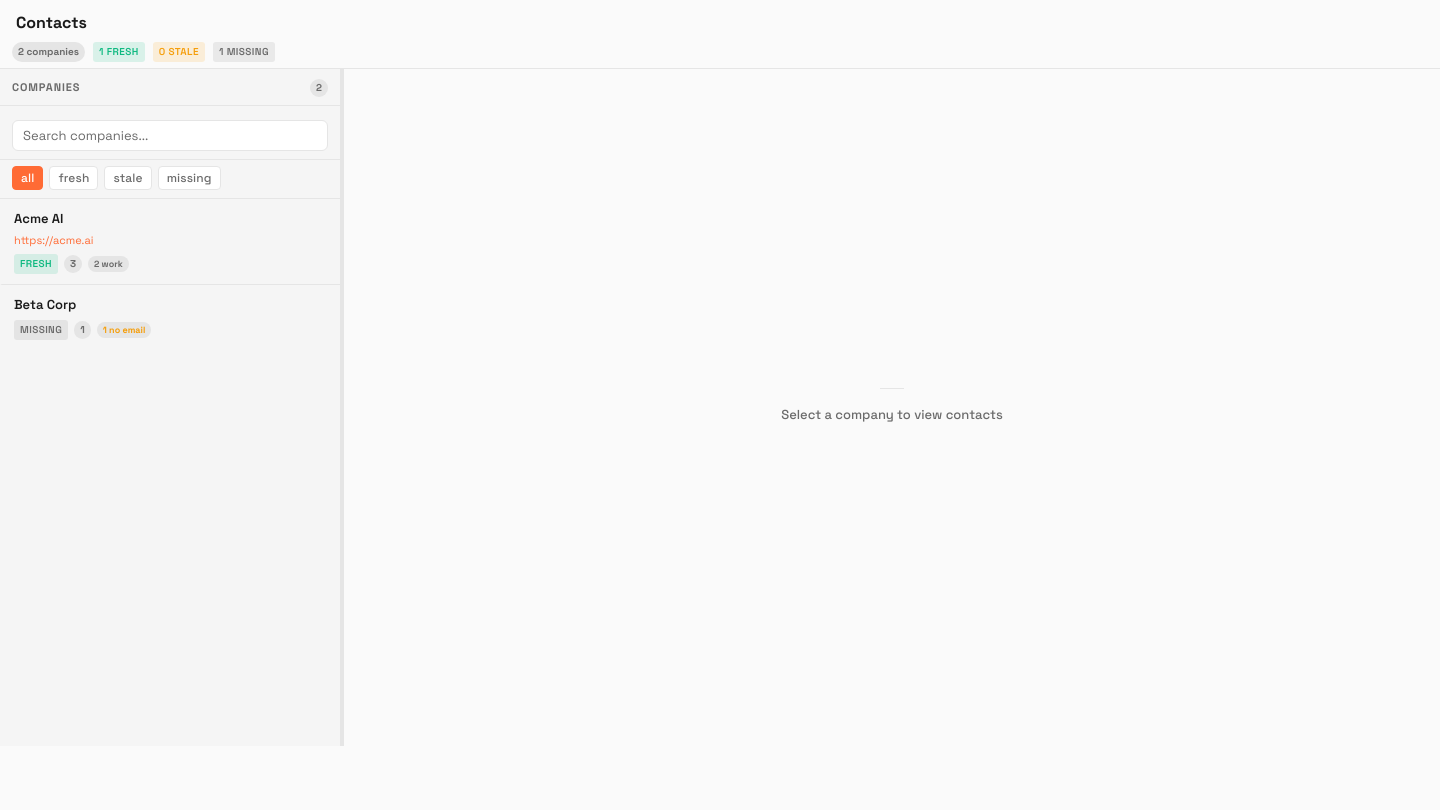
ContactsWorkspacePage › shows sendability fallback in detail when work email bounced but generic usable
What coordinates should you click on to do the following:
click the text "Acme AI"
I would click on:
 (39, 218)
Its box is x1=14 y1=210 x2=63 y2=227.
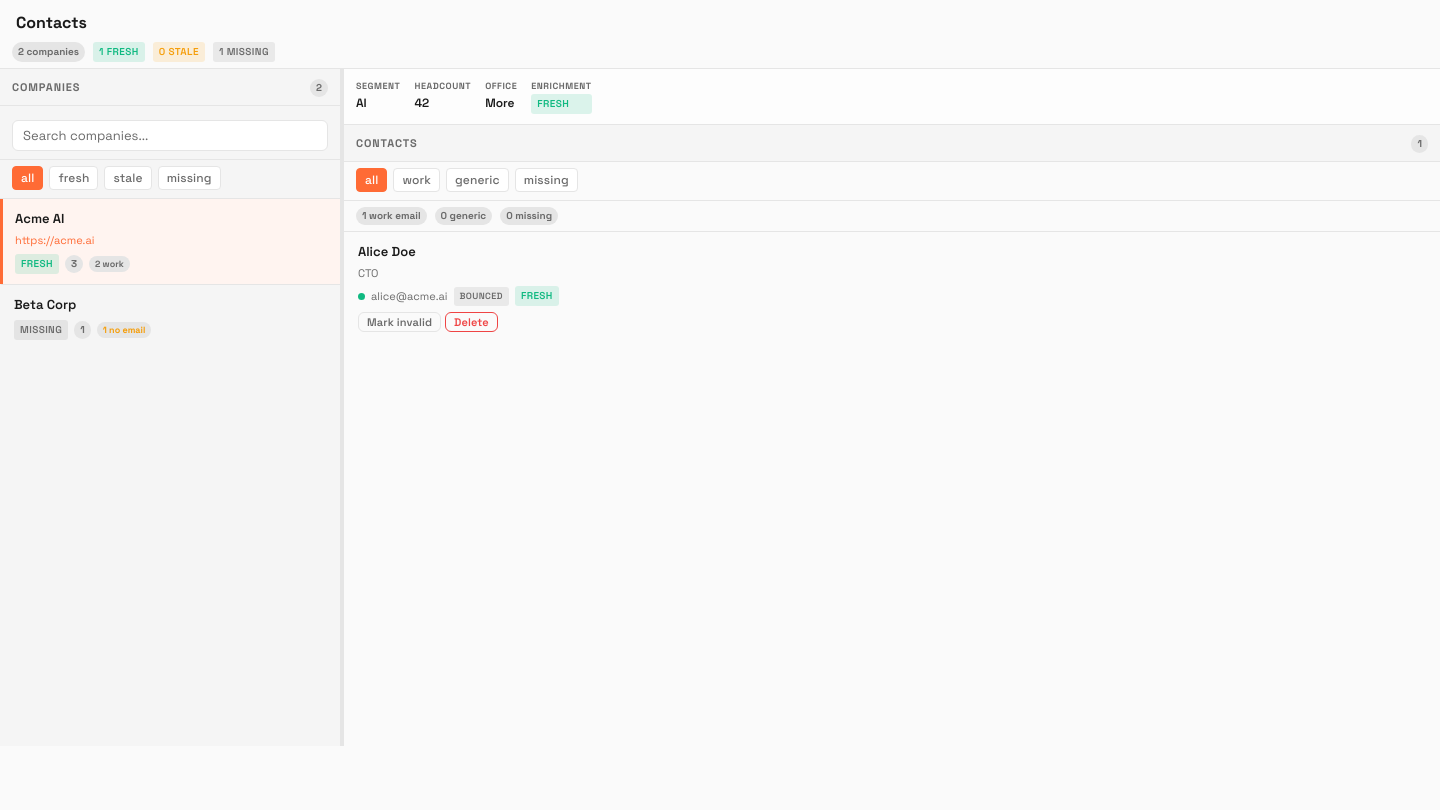
Result: the text "Alice Doe" is shown
Click to open detail
What coordinates should you click on to do the following:
click the text "Alice Doe"
I would click on:
 (387, 252)
Its box is x1=358 y1=243 x2=416 y2=260.
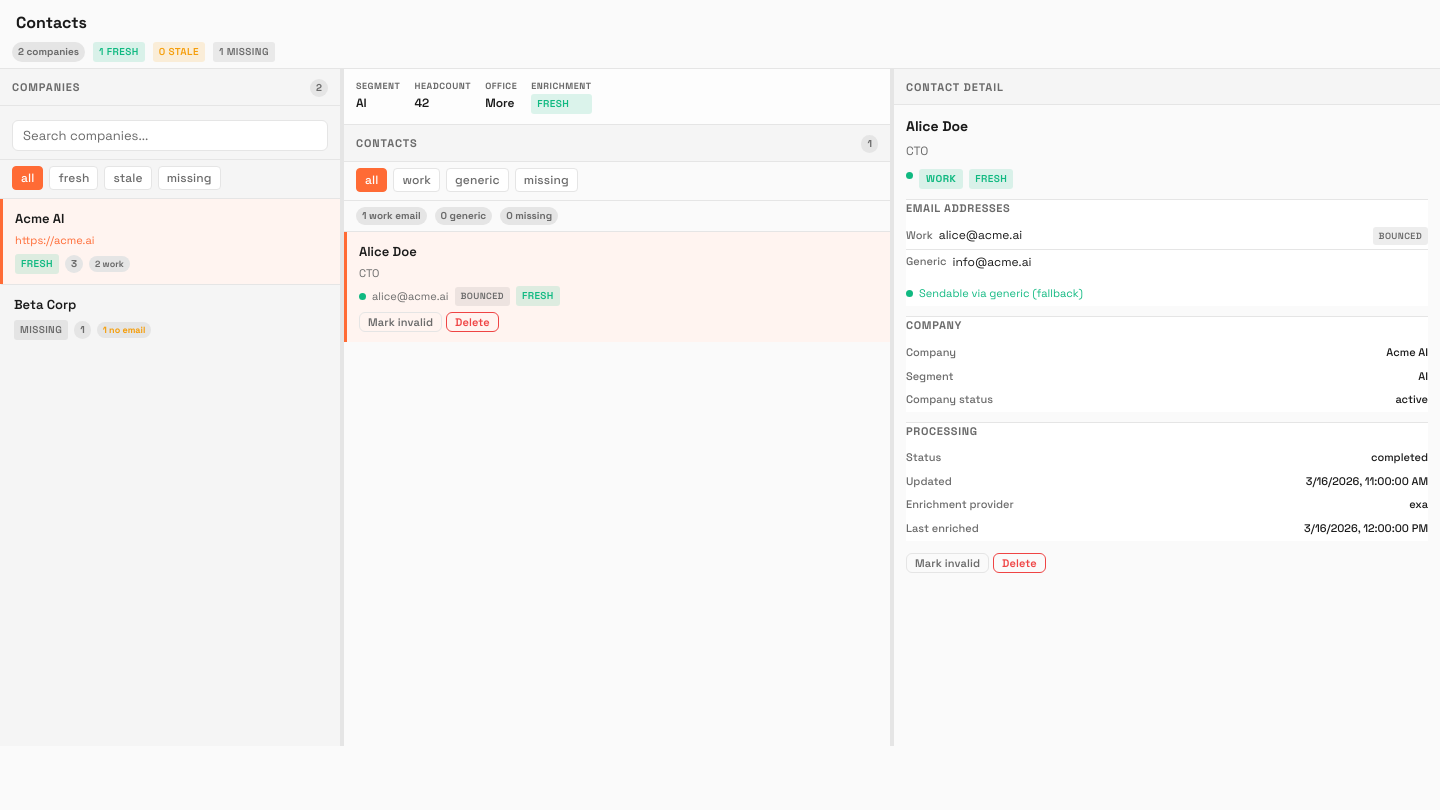
Result: the text "Sendable via generic (fallback)" is shown at x1=919 y1=285 x2=1083 y2=302
